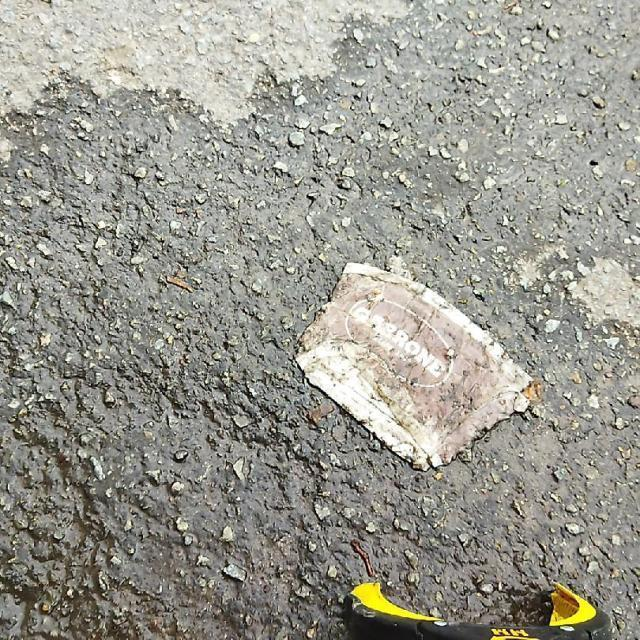Paper: (291, 262, 534, 472)
